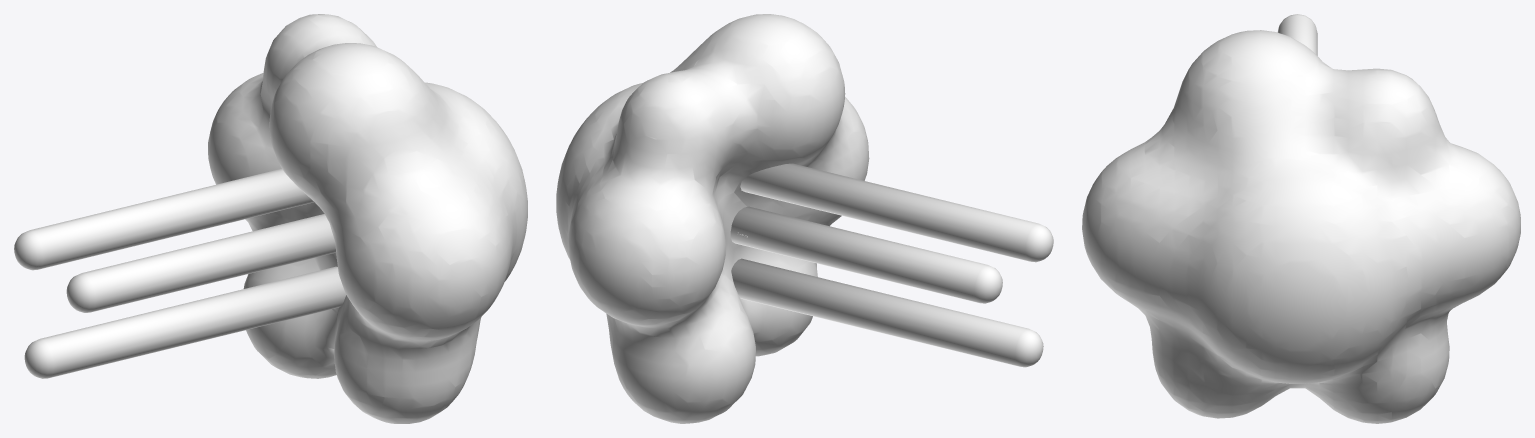
File: dashing_away.glb
3 renders of one model, left to right at view 1: azimuth 30°, elevation 25°; view 2: azimuth 150°, elevation 25°; view 3: azimuth 270°, elevation 25°, orthographic. The views are drawn at different scales.
Visible parts, largest first — view 1: Mball.017; view 2: Mball.017; view 3: Mball.017.
Boxes of the visible parts, x1,y1,x2,y2 form: Mball.017: [14, 14, 527, 423]; Mball.017: [556, 14, 1053, 423]; Mball.017: [1082, 14, 1520, 423].
Bounding box in the file's own units: 2.16 × 1.56 × 1.68.
1 material, 1 textured.
